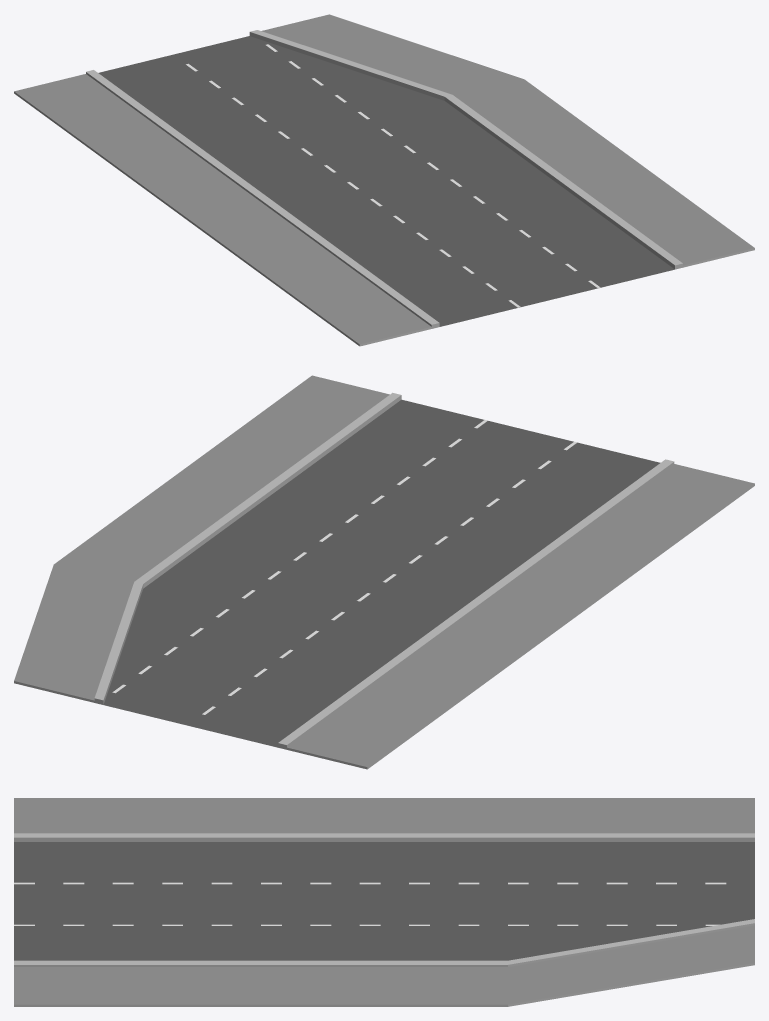
The model's file is street_3to2.fbx.
The picture shows the model from 3 angles, top to bottom: view 1: azimuth 30°, elevation 25°; view 2: azimuth 150°, elevation 25°; view 3: azimuth 270°, elevation 25°; orthographic projection. The views are drawn at different scales.
Visible parts, largest first — view 1: street_3to2; view 2: street_3to2; view 3: street_3to2.
Part boxes in pixels (left/top/right/bottom): street_3to2: left=14, top=14, right=754, bottom=346; street_3to2: left=14, top=375, right=754, bottom=769; street_3to2: left=14, top=798, right=754, bottom=1006.
Bounding box in the file's own units: 19.8 × 0.2 × 30.01.
